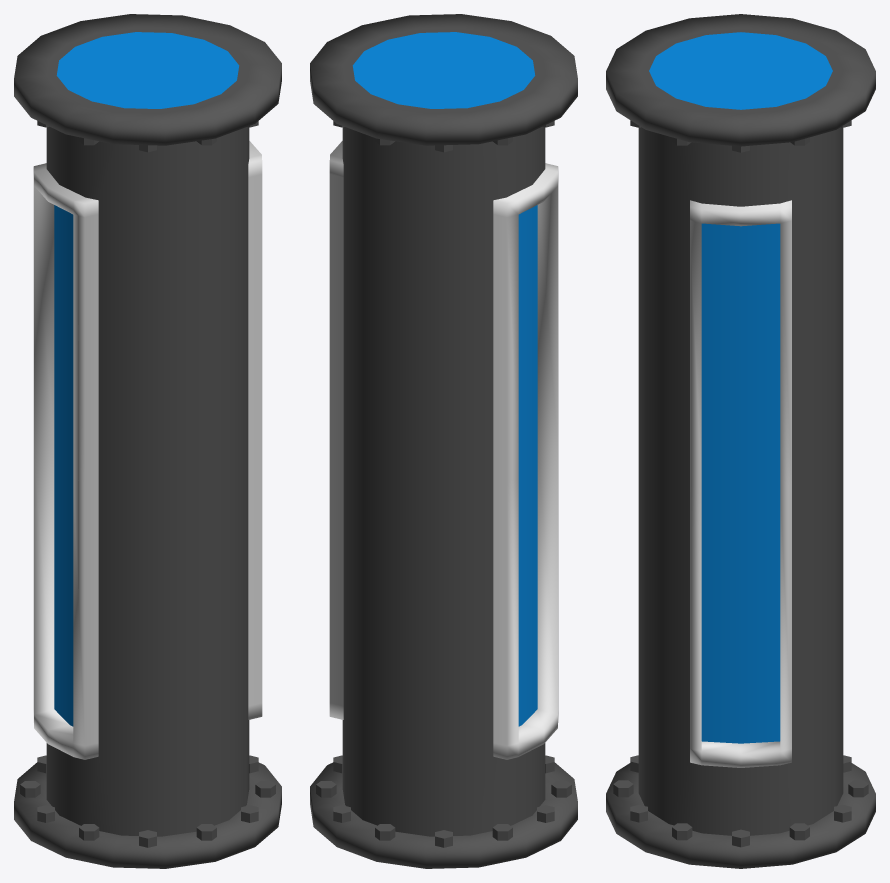
The model's file is PipeViewable.fbx.
3 views of the same model, side by side, from view 1: azimuth 30°, elevation 25°; view 2: azimuth 150°, elevation 25°; view 3: azimuth 270°, elevation 25° (orthographic).
Parts seen in each view (by area): view 1: PipeTube, PipeWindow; view 2: PipeTube, PipeWindow; view 3: PipeTube, PipeWindow.
Part boxes in pixels (box(x1,y1,x2,y2)): PipeTube: box(14, 14, 281, 868); PipeWindow: box(33, 141, 262, 759); PipeTube: box(310, 14, 577, 868); PipeWindow: box(329, 141, 558, 759); PipeTube: box(606, 14, 875, 868); PipeWindow: box(690, 200, 791, 767).
Size of the model in its own units: 264 by 800 by 264.
